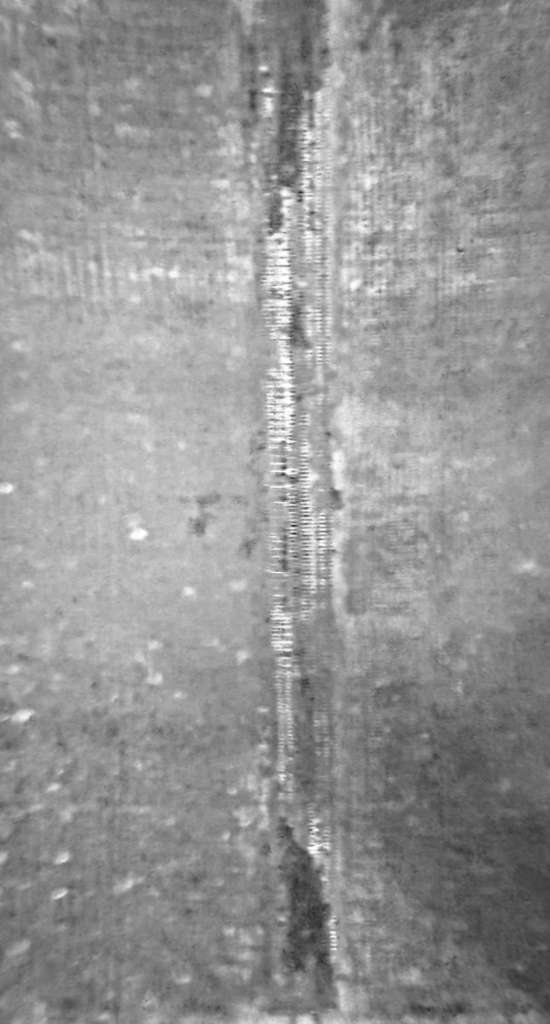splice: (231, 7, 352, 1024)
